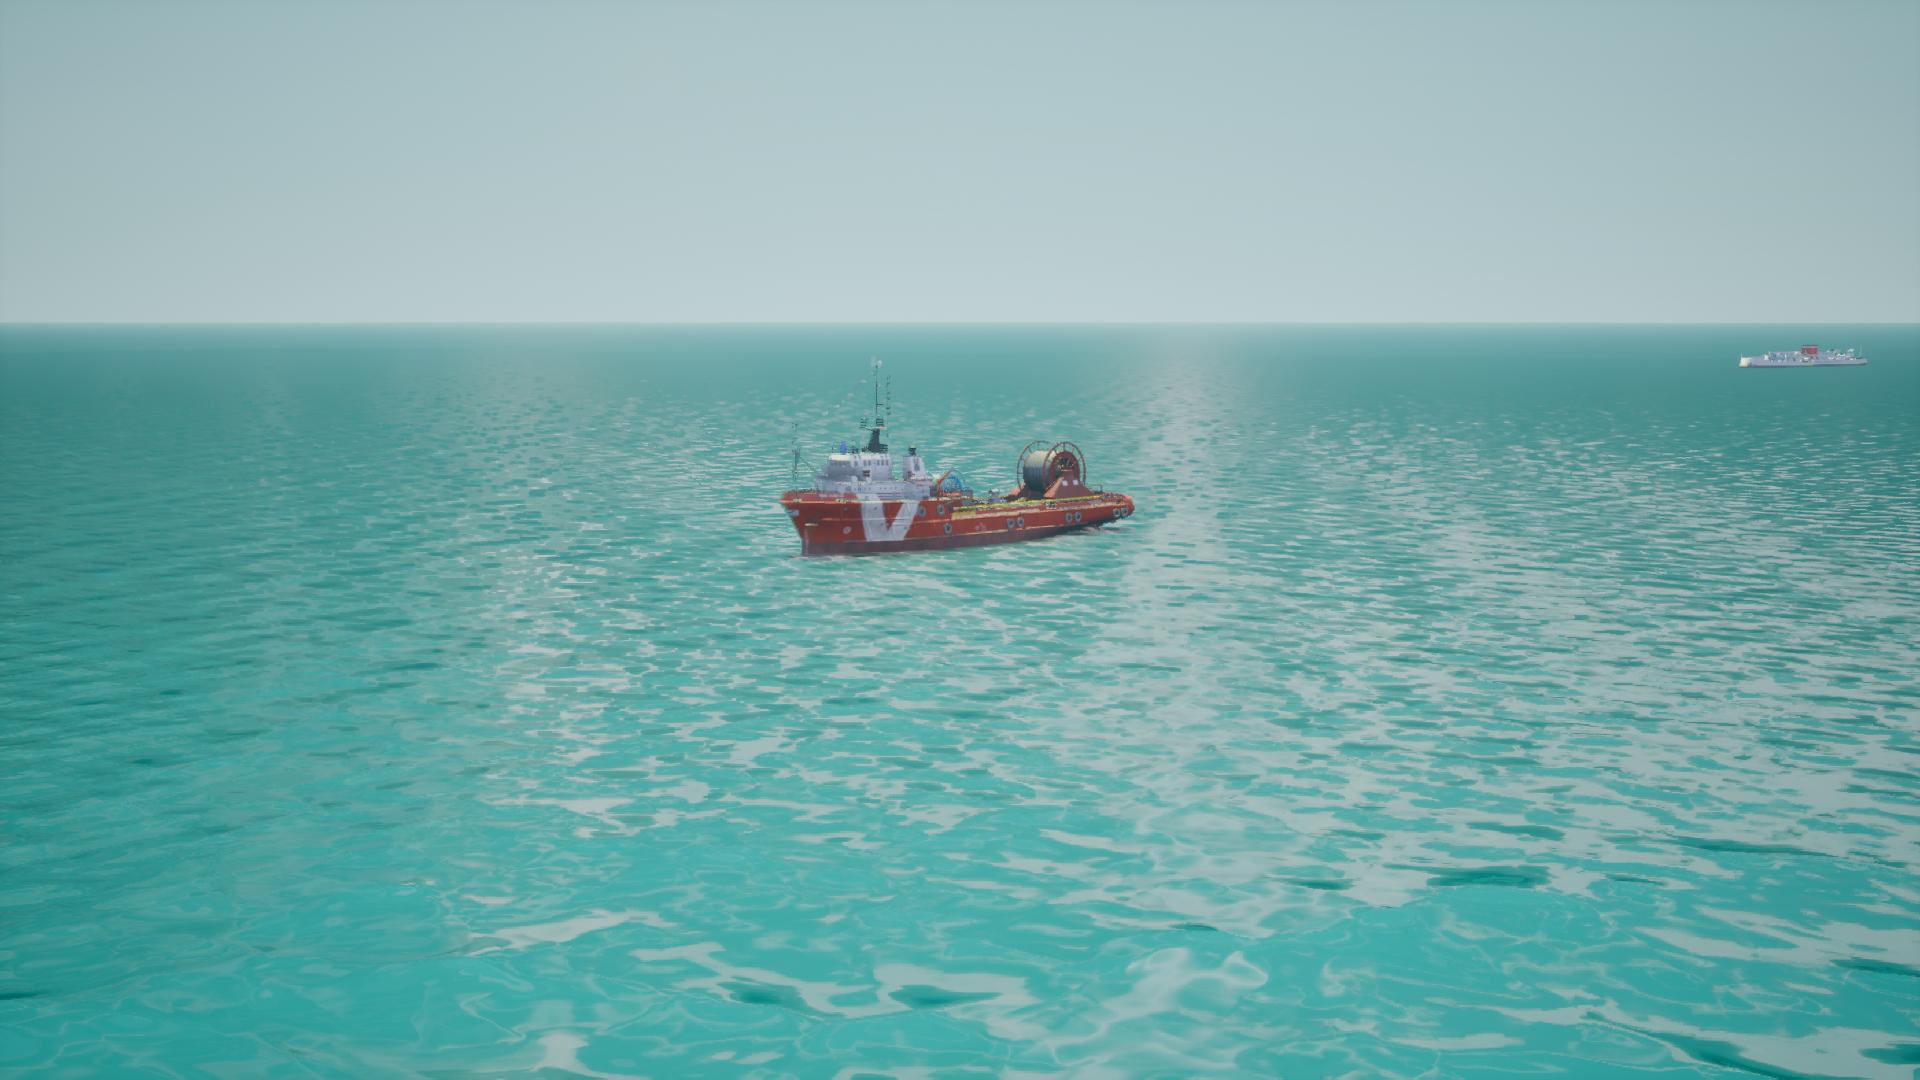Tug Boat: (773, 357, 1133, 562)
